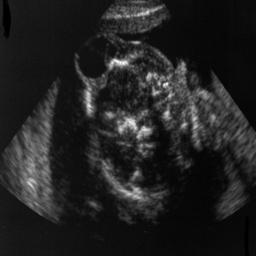abnormal: (73, 24, 212, 205)
